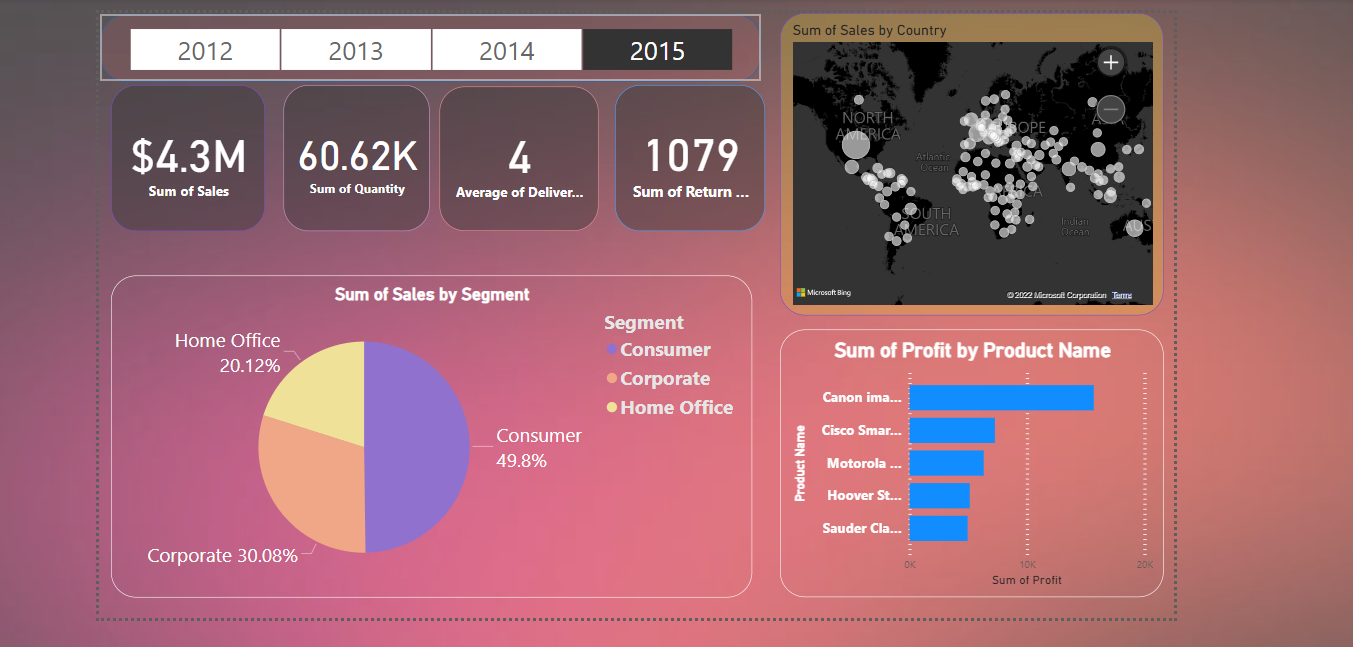

The page's visual inventory and layout, read from the dashboard file:
{"tool":"powerbi","page":{"name":"Page 1","canvas":[1280,720],"ordinal":0},"visuals":[{"type":"card","fields":{"Values":["Sum(Orders.Sales)"]},"box":[13.8,86.2,183.1,173.8],"z":0},{"type":"card","fields":{"Values":["Sum(Orders.Quantity)"]},"box":[220,86.2,173.8,173.8],"z":1000},{"type":"card","fields":{"Values":["Avg(Orders.Delivery Days)"]},"box":[406.2,87.7,189.2,172.3],"z":2000},{"type":"slicer","fields":{"Values":["Orders.Year's"]},"box":[1,1,786,80],"z":3000},{"type":"card","fields":{"Values":["Sum(Returns.Return Order)"]},"box":[613.8,86.2,178.5,173.8],"z":4000},{"type":"map","fields":{"Category":["Orders.Country"],"Size":["Sum(Orders.Sales)"]},"box":[810.8,0,456.9,360],"z":5000},{"type":"barChart","fields":{"Category":["Orders.Product Name"],"Y":["Sum(Orders.Profit)"]},"box":[810.8,376.9,456.9,318.5],"z":6000},{"type":"pieChart","fields":{"Category":["Orders.Segment"],"Y":["Sum(Orders.Sales)"]},"box":[13.8,312.3,763.1,383.1],"z":6001}]}

Visuals, with their boxes on the page's 1280x720 design canvas (x1, y1, x2, y2). These are canvas units, not pixel positions in the 1353x647 screenshot, which may show the page scaled, cropped or inside an application window:
card - Sum(Orders.Sales): Rect(14, 86, 197, 260)
card - Sum(Orders.Quantity): Rect(220, 86, 394, 260)
card - Avg(Orders.Delivery Days): Rect(406, 88, 595, 260)
slicer - Orders.Year's: Rect(1, 1, 787, 81)
card - Sum(Returns.Return Order): Rect(614, 86, 792, 260)
map - Orders.Country x Sum(Orders.Sales): Rect(811, 0, 1268, 360)
barChart - Orders.Product Name x Sum(Orders.Profit): Rect(811, 377, 1268, 695)
pieChart - Orders.Segment x Sum(Orders.Sales): Rect(14, 312, 777, 695)
